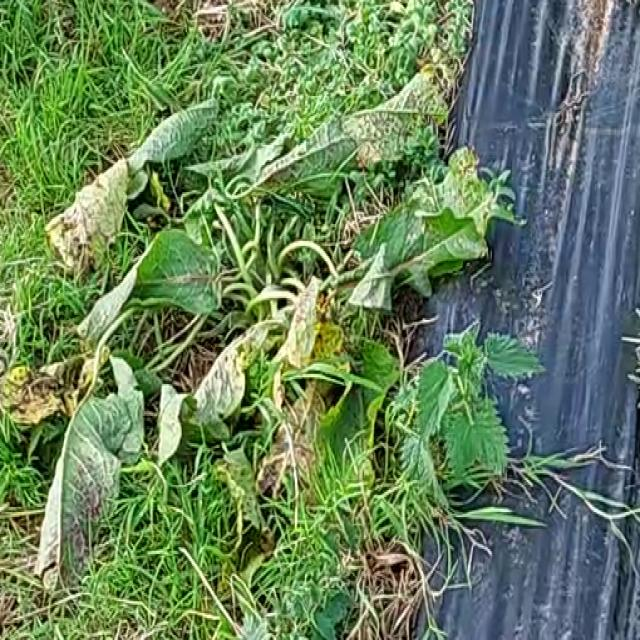organic waste: (52, 113, 520, 551)
